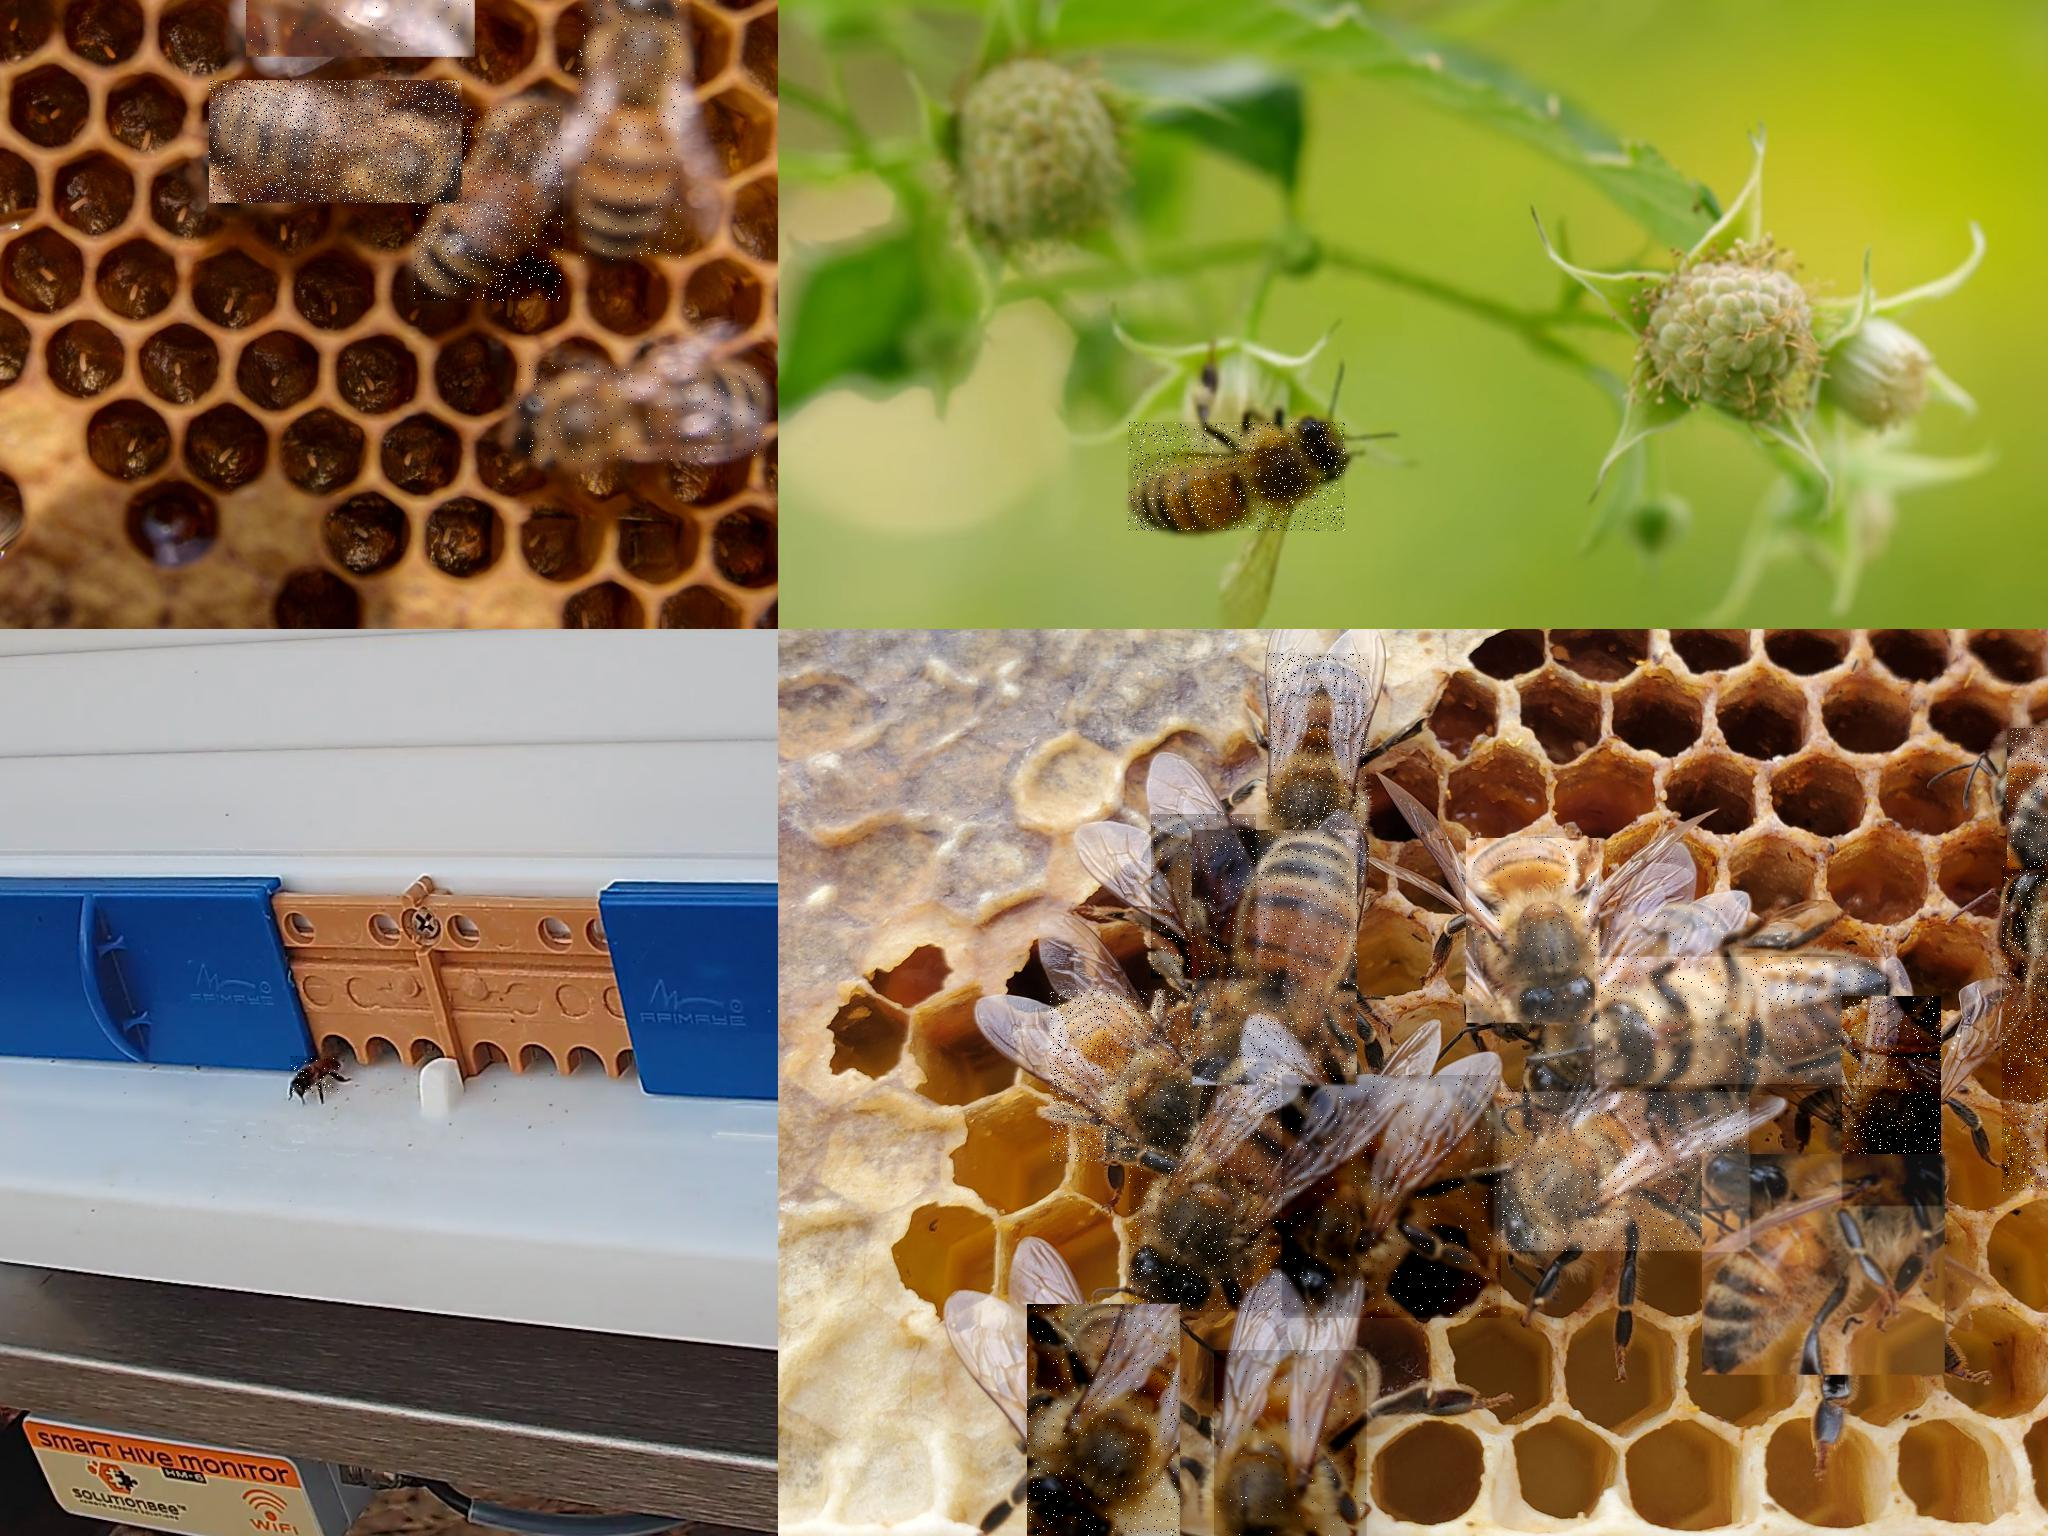bee: (1701, 1154, 1946, 1376), (1129, 1063, 1347, 1313), (1282, 1075, 1501, 1320), (1192, 829, 1358, 1086), (1493, 1092, 1750, 1252), (1529, 907, 1725, 1108), (1595, 957, 1887, 1084), (1027, 1304, 1182, 1534), (210, 81, 463, 203), (414, 106, 564, 302), (1214, 1350, 1369, 1534), (1050, 991, 1214, 1162), (577, 0, 682, 261), (1466, 837, 1600, 1025), (518, 365, 768, 463), (1127, 423, 1347, 532), (1268, 653, 1371, 878), (1842, 995, 1942, 1205), (1151, 813, 1256, 979), (2001, 866, 2046, 1192), (247, 0, 477, 58), (290, 1055, 340, 1094)
